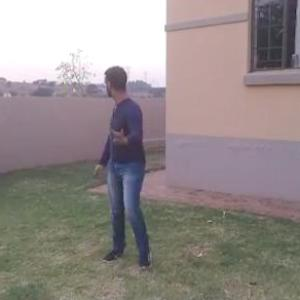takeoff-hand: (109, 120, 129, 148)
